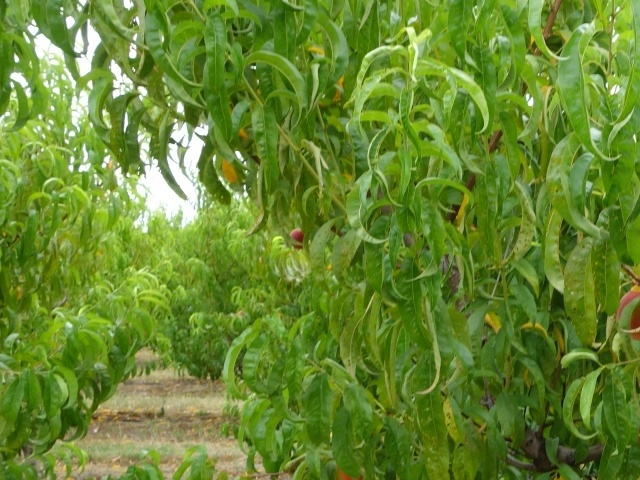peach: (610, 284, 640, 342), (281, 226, 310, 254)
